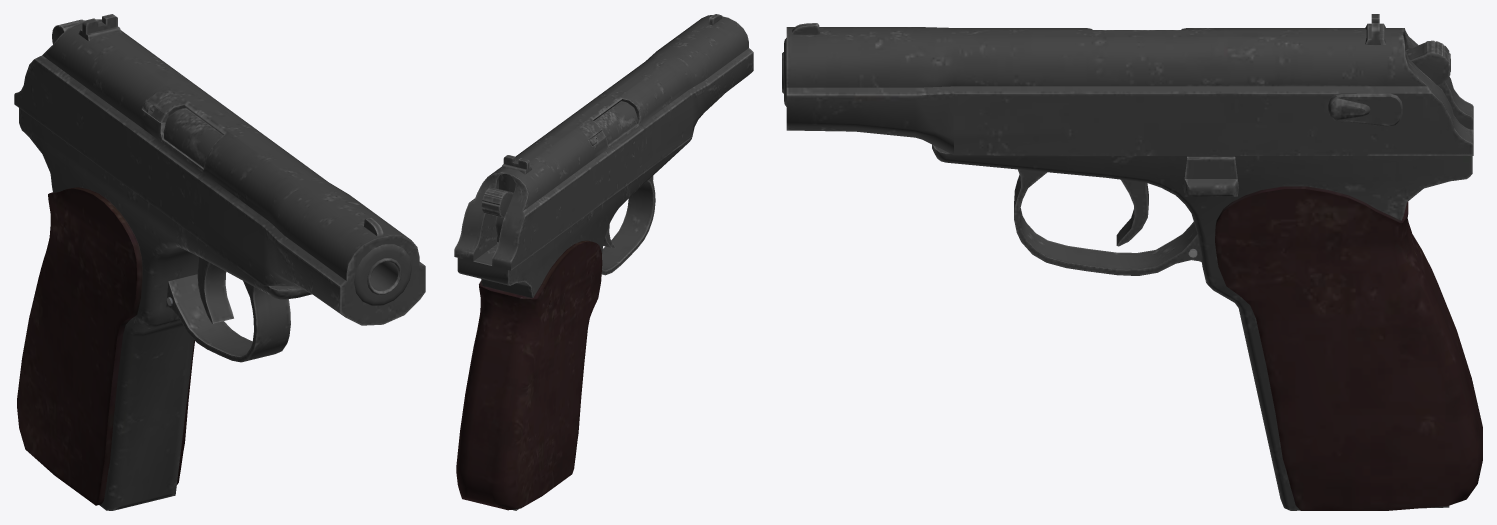
The model's file is weapon_pistol.glb.
3 renders of one model, left to right at view 1: azimuth 30°, elevation 25°; view 2: azimuth 150°, elevation 25°; view 3: azimuth 270°, elevation 25°, orthographic. The views are drawn at different scales.
Visible parts, largest first — view 1: Body, Slide, Barrel, Trigger; view 2: Body, Slide, Barrel, Hammer; view 3: Body, Slide, Safety, Hammer, Trigger.
Part boxes in pixels (<box>): Body: <box>17,108,311,510</box>; Slide: <box>14,14,425,325</box>; Barrel: <box>163,108,401,294</box>; Trigger: <box>197,257,233,323</box>; Body: <box>456,138,691,510</box>; Slide: <box>454,14,753,270</box>; Barrel: <box>594,101,637,144</box>; Hammer: <box>481,187,513,241</box>; Body: <box>932,144,1482,510</box>; Slide: <box>784,14,1473,155</box>; Safety: <box>1328,93,1402,126</box>; Hammer: <box>1406,40,1450,85</box>; Trigger: <box>1116,179,1148,246</box>.
Bounding box in the file's own units: 0.0257 × 0.1253 × 0.1685.
Materials: 1 (1 with a texture image).
